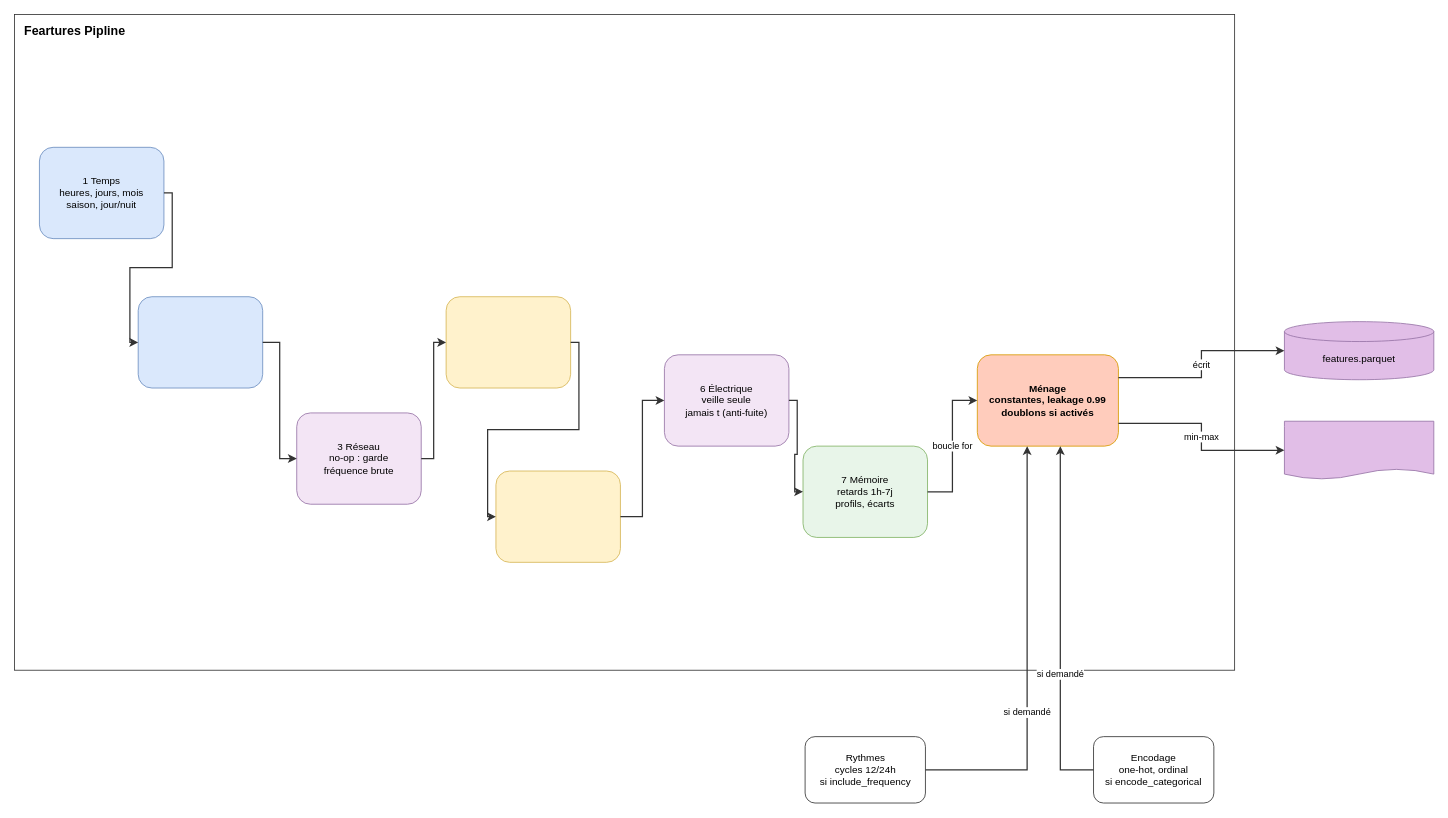
Image size: 1448x818. Some labels were removed from this diagram. Each missing label, with the centre of its shape:
2 Air vent, densité air turbulence: [200,342]
4 Soleil position, ciel clair module, plan incliné: [508,342]
5 Météo sol. stub vide point d'extension: [557,516]
{site}_scaler.json: [1359,449]
